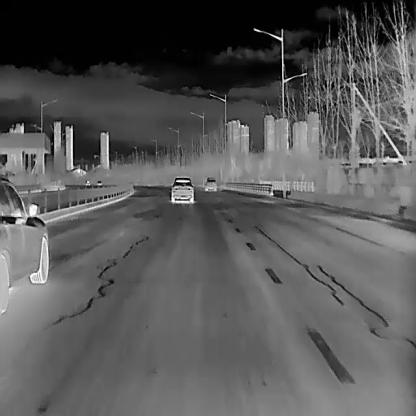car: (0, 173, 48, 311), (169, 176, 193, 202), (204, 176, 216, 190), (95, 180, 101, 185), (84, 180, 89, 185)
